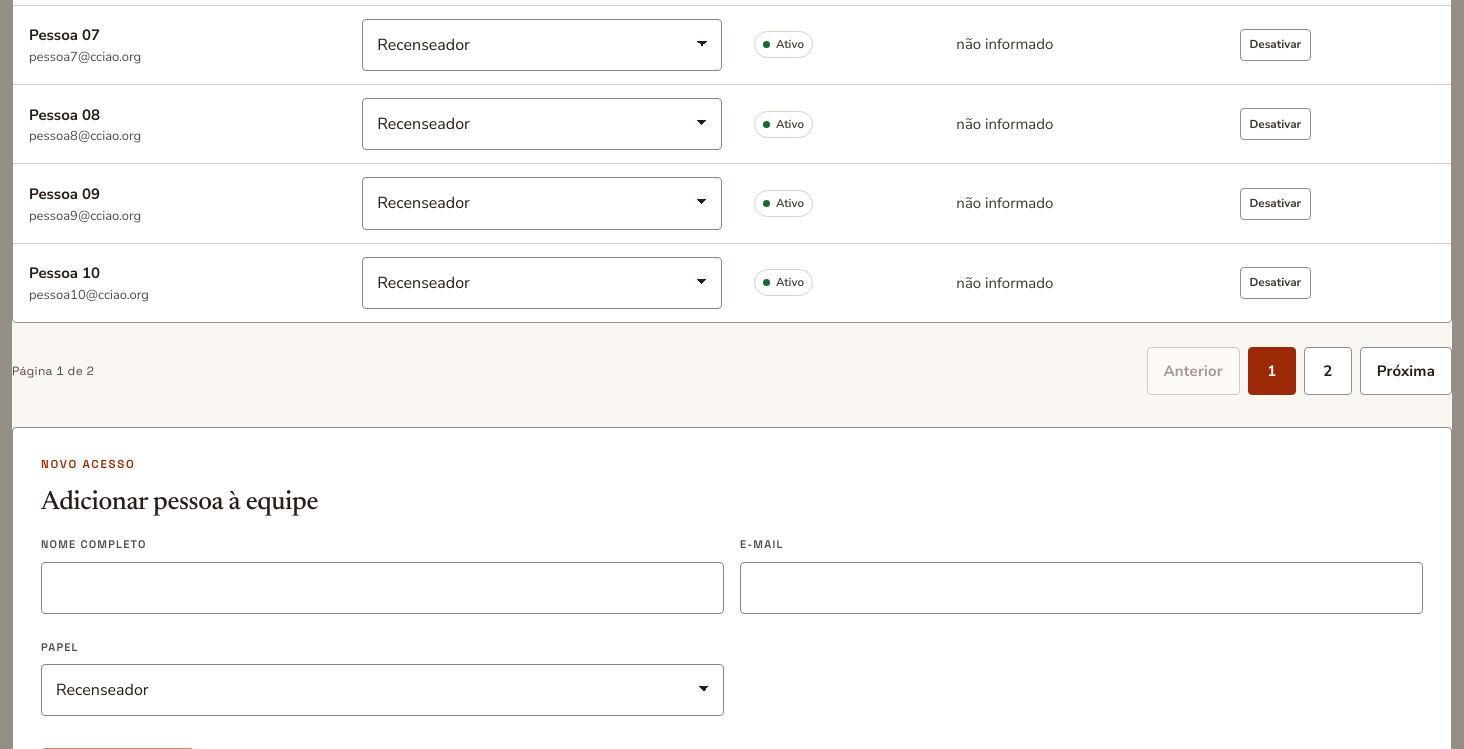
Test: AdminUsers › pagina a lista de dez em dez
(page scrolled)
Check: the text "Pessoa 11" is not shown
What coordinates should you click on to do the following:
click the button "2"
I would click on:
 (1328, 371)
Its box is [1304,347,1352,395].
(page scrolled)
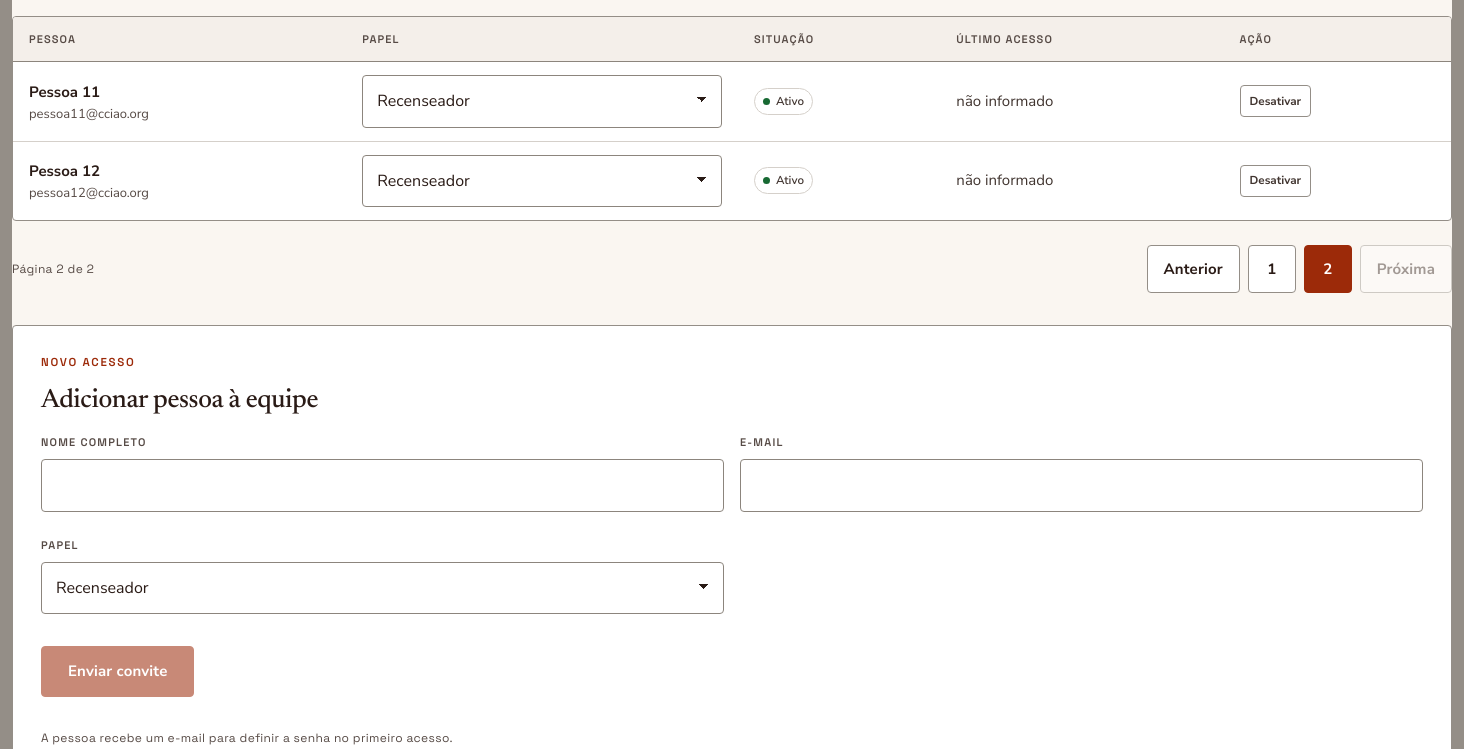
Check: the text "Pessoa 11" is shown, box [29,82,100,102]
Check: the text "Pessoa 12" is shown, box [29,161,100,181]
